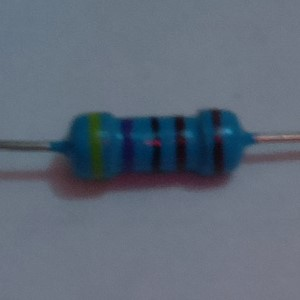black_band: (147, 114, 164, 176)
brown_band: (209, 108, 228, 177), (173, 113, 188, 176)
violet_band: (118, 117, 136, 177)
yellow_band: (86, 109, 106, 182)
